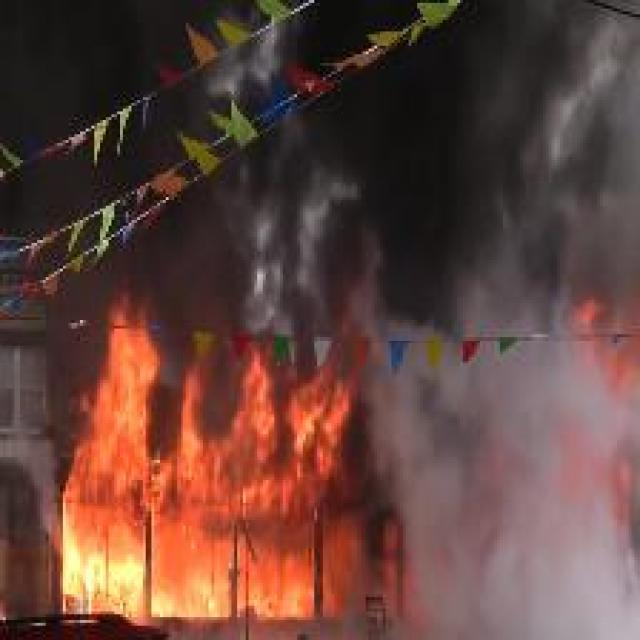Fire: (64, 300, 391, 620)
Smoke: (399, 83, 640, 640)
